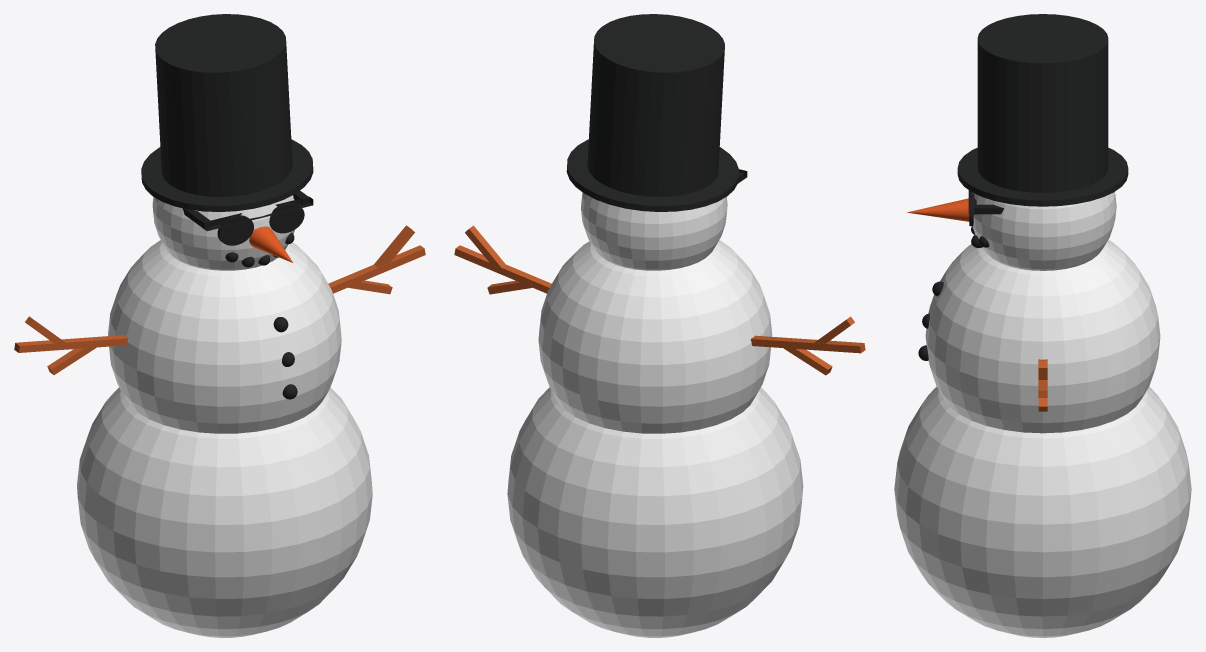
Rendered from SNOWMAN2.gltf.
3 views of the same model, side by side, from view 1: azimuth 30°, elevation 25°; view 2: azimuth 150°, elevation 25°; view 3: azimuth 270°, elevation 25° (orthographic).
Visible parts, largest first — view 1: Sphere.001; view 2: Sphere.001; view 3: Sphere.001.
Part boxes in pixels (x1,y1,x2,y2): Sphere.001: (14, 14, 425, 637); Sphere.001: (454, 14, 865, 637); Sphere.001: (894, 14, 1191, 637).
Size of the model in its own units: 0.762 by 1.05 by 0.481.
